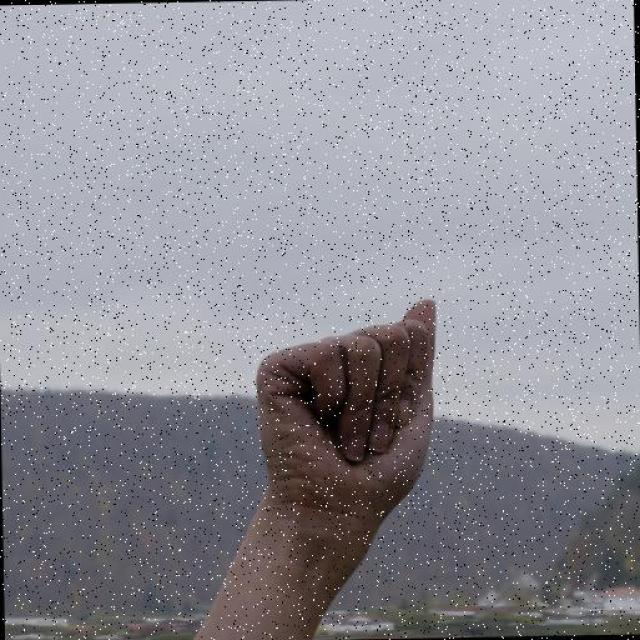A: (238, 288, 449, 533)
